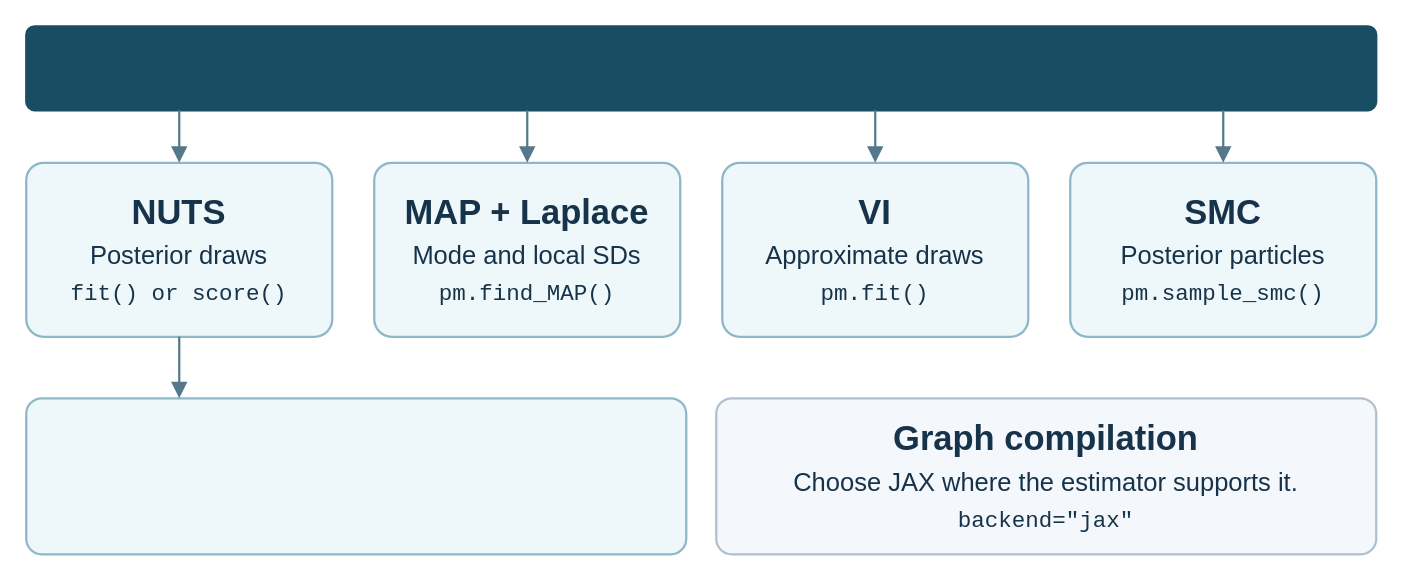
Some shapes in this 1404 by 582 pixel diagram are drawn without their labels. The shapes that lost their labels are listed below. From the top down, each one's centre as x and y in pixels, then its label:
pixel 700 67: Prepared TIRT model
pixel 355 475: NUTS sampler BlackJAX (default) · PyMC · NumPyro · nutpie nuts_sampler
